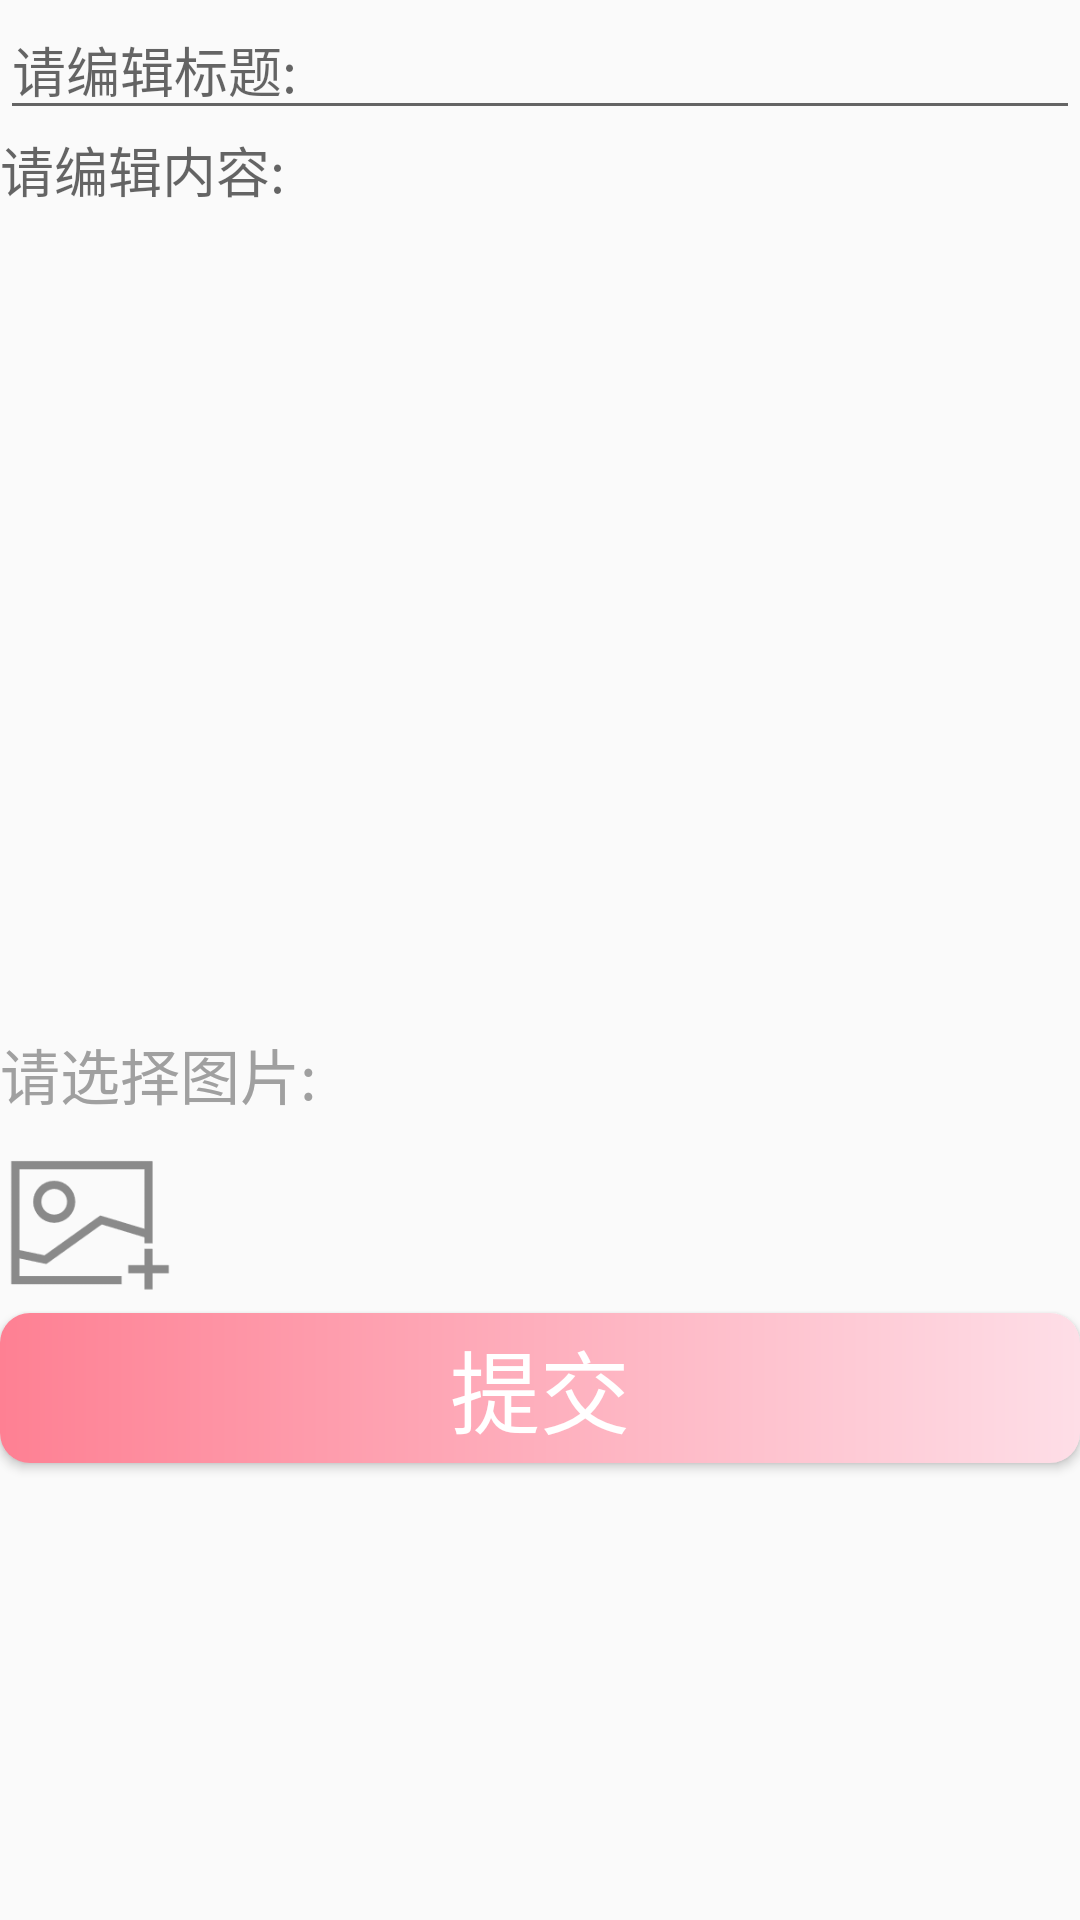

Icons on this 1080px×1920px Android screen, each with its box as Rect(x1, y1, x2, y2):
add: Rect(11, 1161, 169, 1290)
